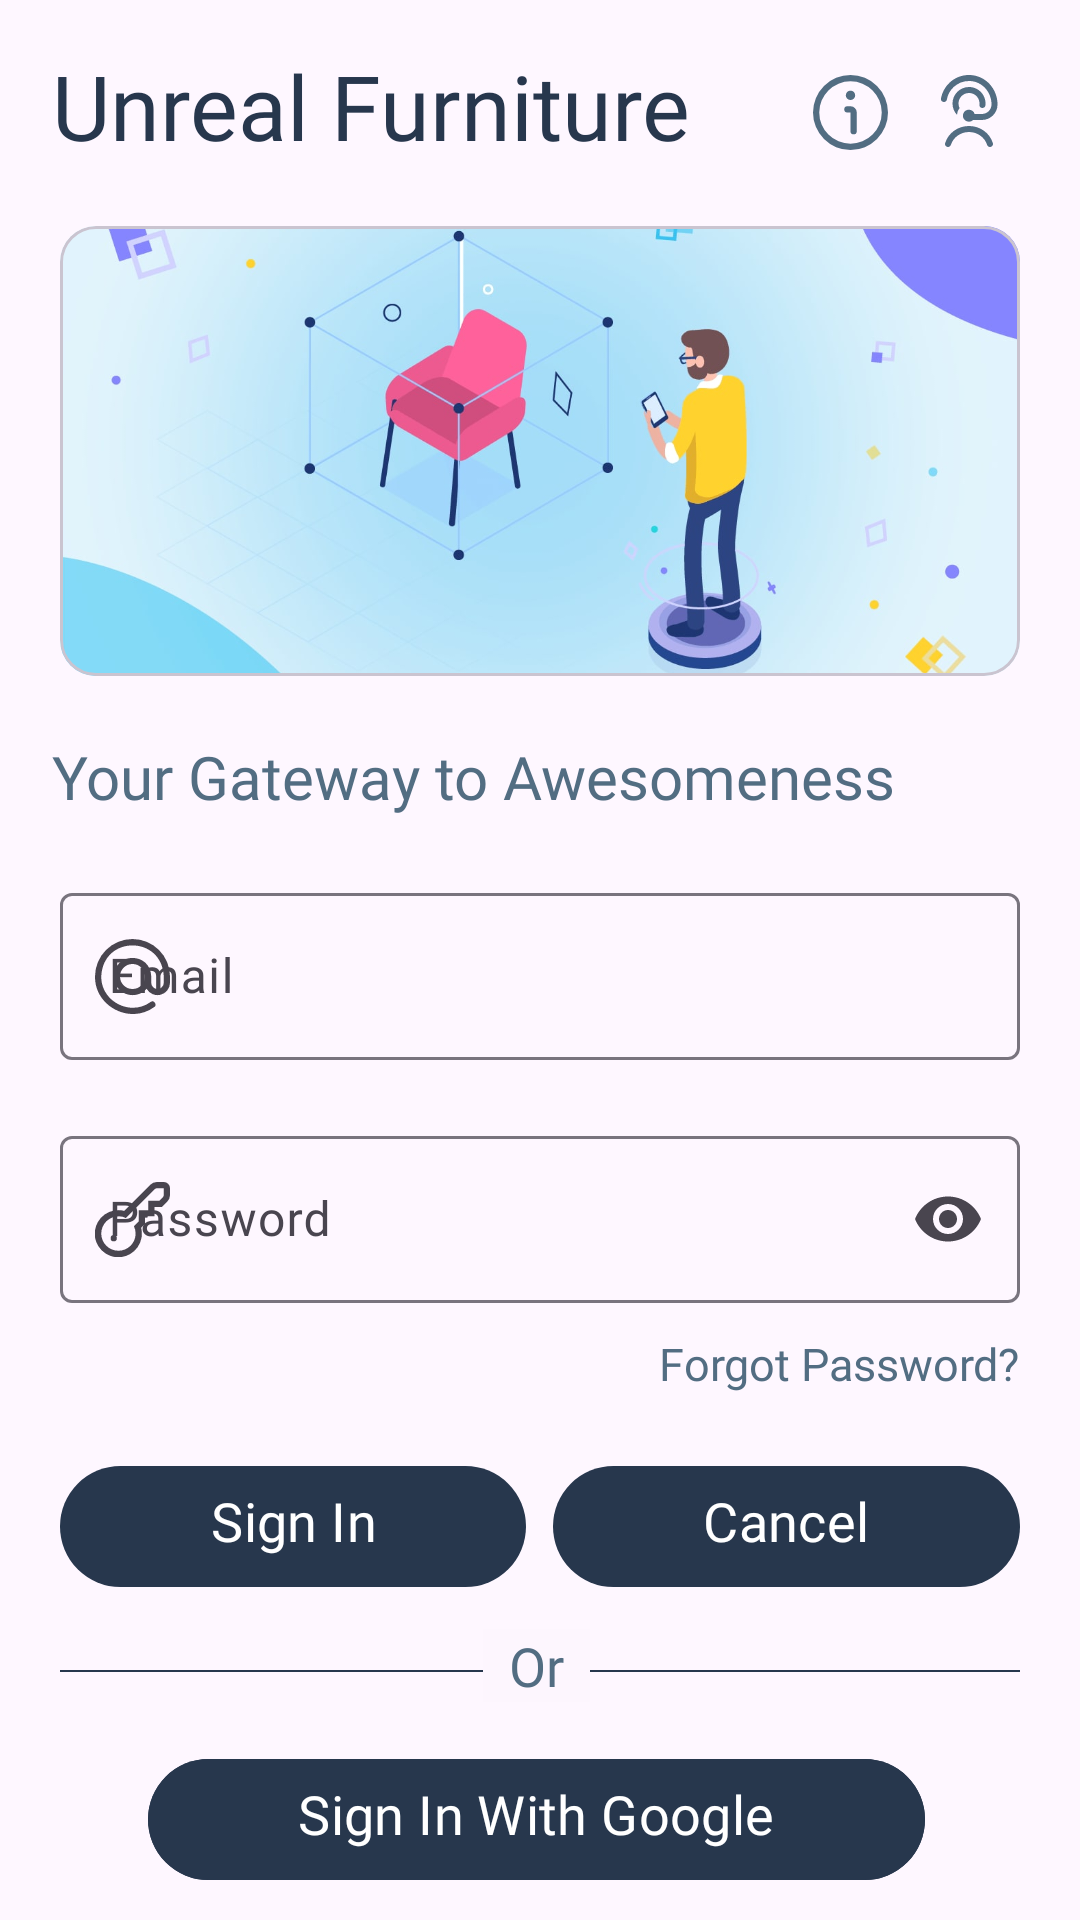

Named icons in this screenshot (1080 x 1920) and their bounding boxes, (x1, y1, x2, y2):
info: (813, 75, 888, 150)
support: (941, 75, 998, 147)
